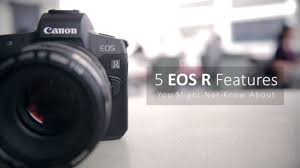camera: (0, 8, 128, 165)
